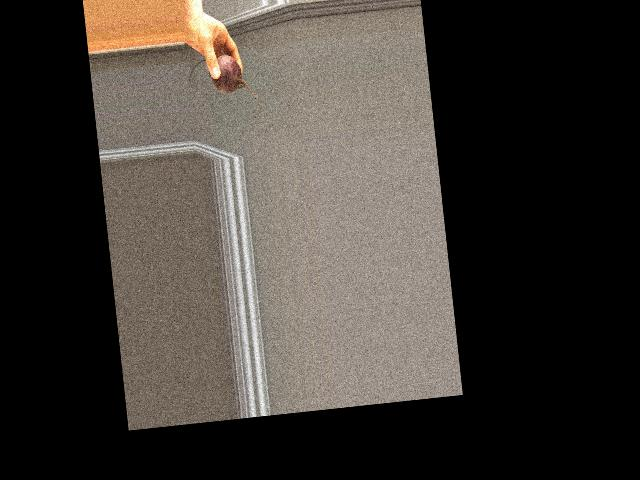beet: (186, 52, 260, 121)
